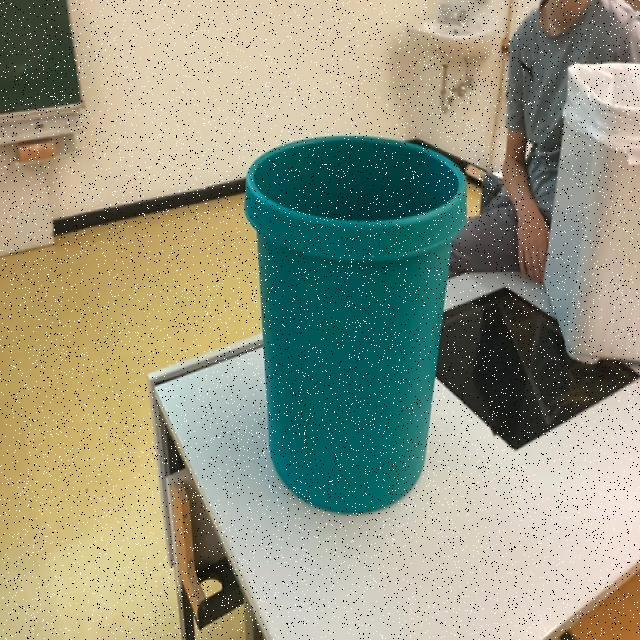garbage container: (189, 78, 473, 560)
